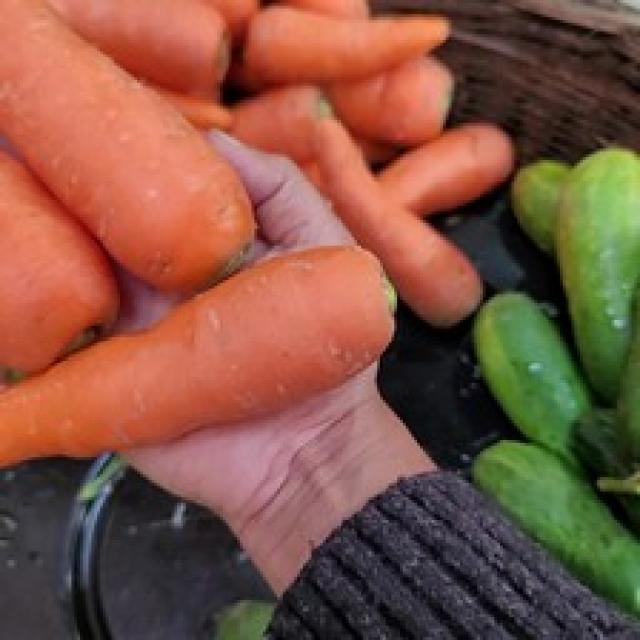Fresh_Carrot: (2, 234, 384, 442), (0, 4, 244, 251), (256, 5, 447, 80)
